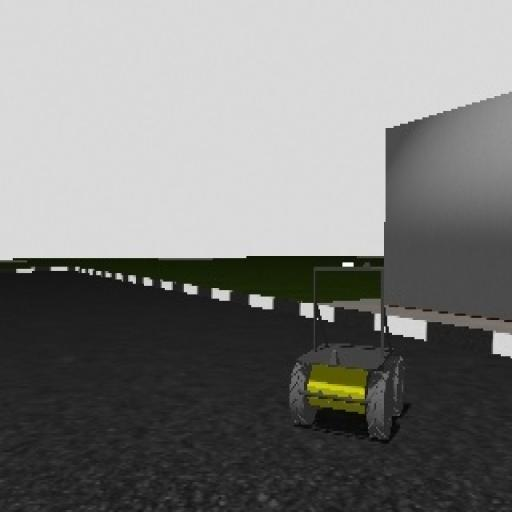huskya200: (287, 257, 415, 450)
